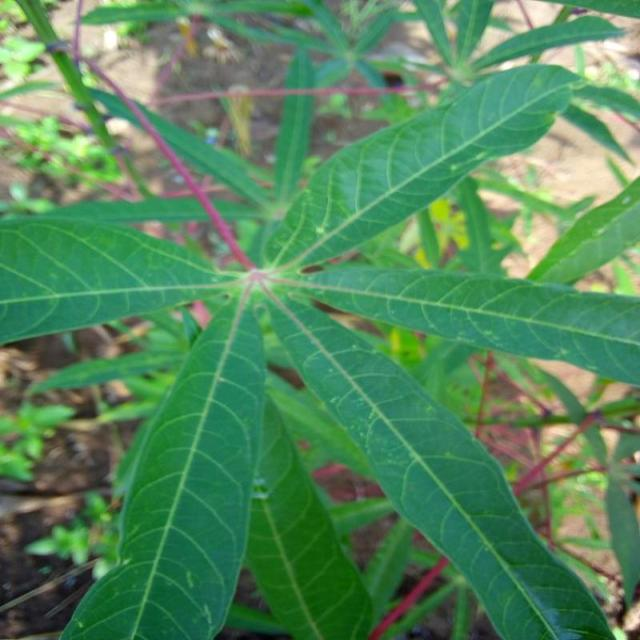cassava leaf: (0, 0, 639, 639), (262, 282, 619, 639), (55, 287, 267, 639)
